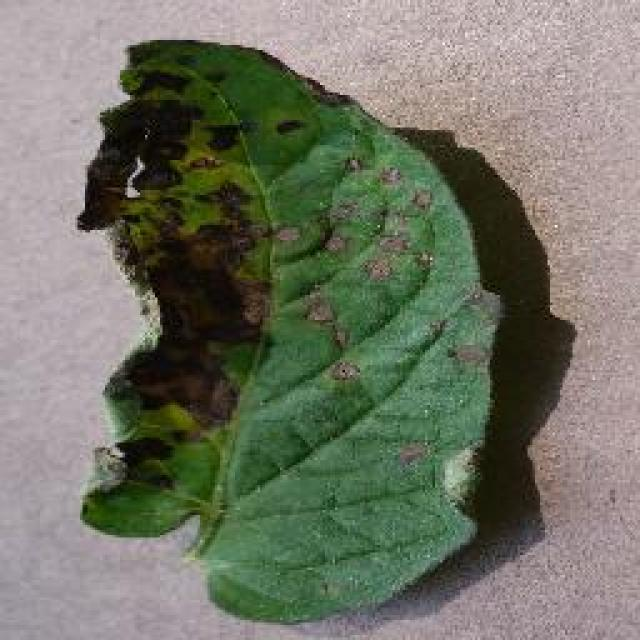Tomato___Early_blight: (66, 34, 508, 631)
